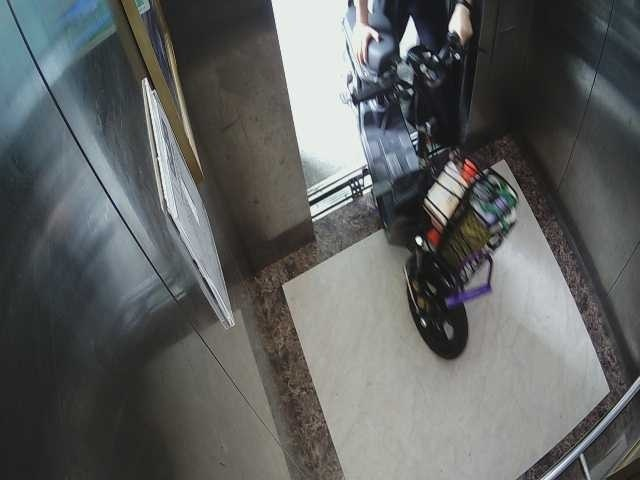emotor: (341, 7, 511, 363)
